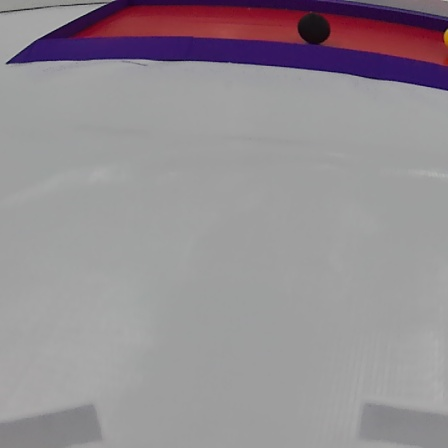black: (299, 11, 326, 43)
red_aim: (10, 1, 448, 92)
yellow: (445, 28, 448, 47)
